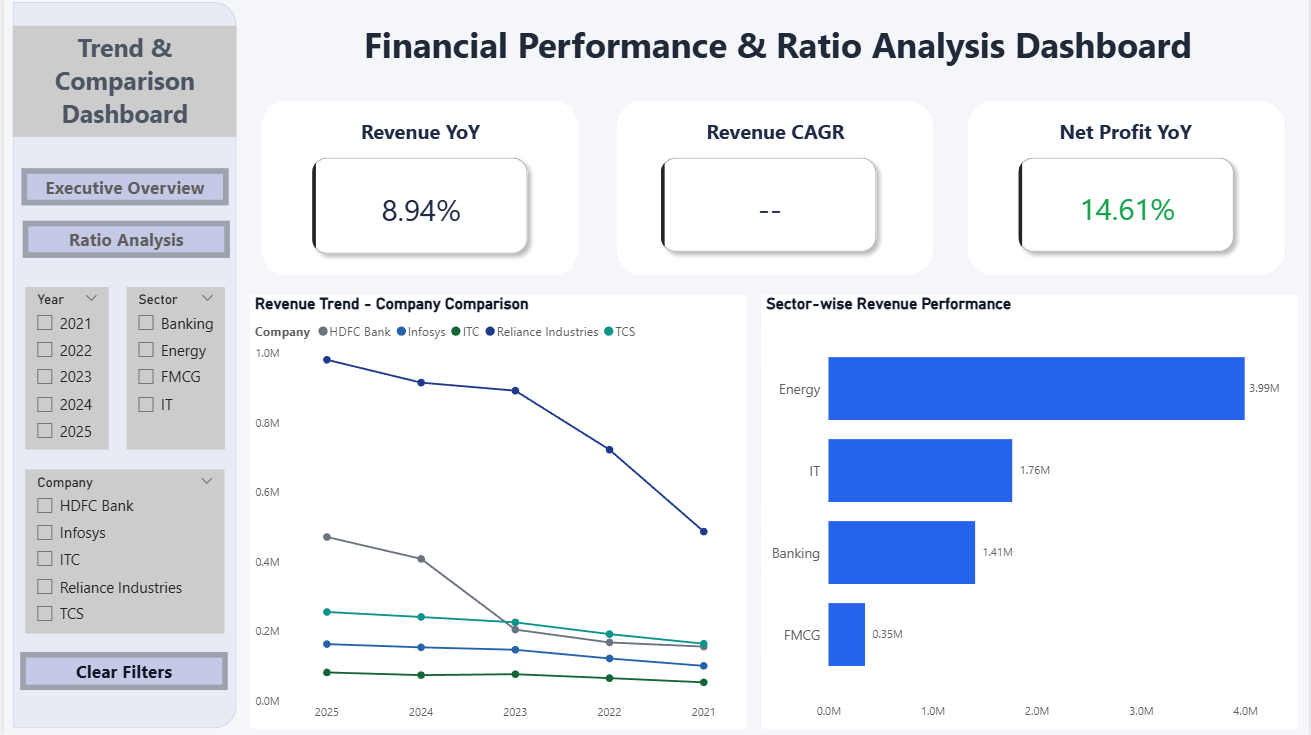

What the dashboard file says about the page in this screenshot:
{"tool":"powerbi","page":{"name":"Trend & Comparison Dashboard","canvas":[1400,800],"ordinal":2},"visuals":[{"type":"shape","box":[9.4,10.7,239.9,778.8],"z":0},{"type":"slicer","fields":{"Values":["Date_Table.Year"]},"box":[22.6,316.2,89.8,174.3],"z":1000},{"type":"slicer","fields":{"Values":["Company_Table.Company"]},"box":[23.4,512.1,213.8,175.7],"z":2000},{"type":"slicer","fields":{"Values":["Company_Table.Sector"]},"box":[131.1,316.2,105.9,174.3],"z":3000},{"type":"shape","box":[276.8,116,339.7,187.3],"z":4000},{"type":"textbox","box":[319.2,130.6,255.2,43.1],"z":5000},{"type":"cardVisual","fields":{"Data":["Financial_Statement.Revenue QoQ Growth %"]},"box":[313.2,160.7,265.2,137.5],"z":6000},{"type":"lineChart","title":"Revenue Trend - Company Comparison","fields":{"Category":["Date_Table.Year"],"Y":["Cash Flow.Revenue"],"Series":["Company_Table.Company"]},"box":[263.5,324.8,532,465.7],"z":7000},{"type":"clusteredBarChart","title":"Sector-wise Revenue Performance","fields":{"Category":["Company_Table.Sector"],"Y":["Cash Flow.Revenue"]},"box":[812,324.8,575,465.7],"z":8000},{"type":"shape","box":[656.3,116,339.7,187.3],"z":9000},{"type":"textbox","box":[699.1,130.6,255.2,43.1],"z":10000},{"type":"cardVisual","fields":{"Data":["Financial_Statement.Revenue CAGR %"]},"box":[687.7,160.7,265.2,135.9],"z":11000},{"type":"shape","box":[1034.1,116,339.7,187.3],"z":12000},{"type":"textbox","box":[1075.5,130.6,255.2,43.1],"z":13000},{"type":"cardVisual","fields":{"Data":["Cash Flow.Net Profit YoY Growth %"]},"box":[1070.6,160.7,265.2,135.9],"z":14000},{"type":"actionButton","box":[18.2,188.9,222.1,39.8],"z":15000},{"type":"actionButton","box":[19.9,245.3,222.1,39.8],"z":16000},{"type":"textbox","box":[9.9,36.5,240.3,119.3],"z":17000},{"type":"textbox","box":[334.8,24.9,989.4,66.3],"z":18000},{"type":"actionButton","box":[17.6,707.3,222.6,41],"z":19000}]}

Visuals, with their boxes in screenshot pixels (x1, y1, x2, y2), scaled from the page's 1400x800 canvas onto the 1311x735 screenshot:
shape: crop(9, 10, 233, 725)
slicer - Date_Table.Year: crop(21, 291, 105, 451)
slicer - Company_Table.Company: crop(22, 470, 222, 632)
slicer - Company_Table.Sector: crop(123, 291, 222, 451)
shape: crop(259, 107, 577, 279)
textbox: crop(299, 120, 538, 160)
cardVisual - Financial_Statement.Revenue QoQ Growth %: crop(293, 148, 542, 274)
"Revenue Trend - Company Comparison" lineChart: crop(247, 298, 745, 726)
"Sector-wise Revenue Performance" clusteredBarChart: crop(760, 298, 1299, 726)
shape: crop(615, 107, 933, 279)
textbox: crop(655, 120, 894, 160)
cardVisual - Financial_Statement.Revenue CAGR %: crop(644, 148, 892, 273)
shape: crop(968, 107, 1286, 279)
textbox: crop(1007, 120, 1246, 160)
cardVisual - Cash Flow.Net Profit YoY Growth %: crop(1003, 148, 1251, 273)
actionButton: crop(17, 174, 225, 210)
actionButton: crop(19, 225, 227, 262)
textbox: crop(9, 34, 234, 143)
textbox: crop(314, 23, 1240, 84)
actionButton: crop(16, 650, 225, 688)
